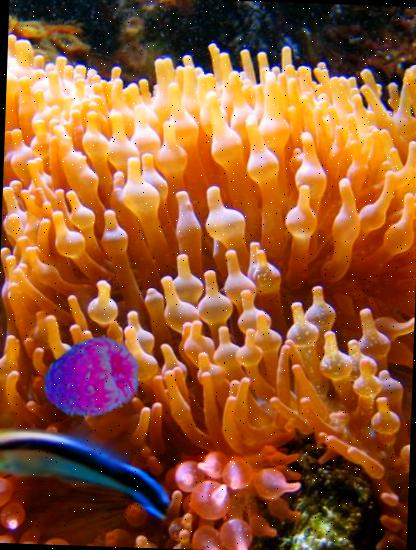Raspberry: (44, 330, 144, 430)
